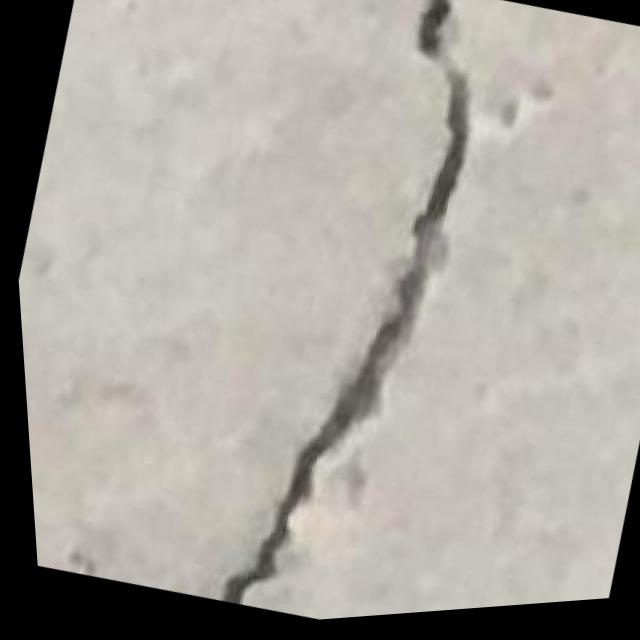Crack: (161, 0, 546, 631)
